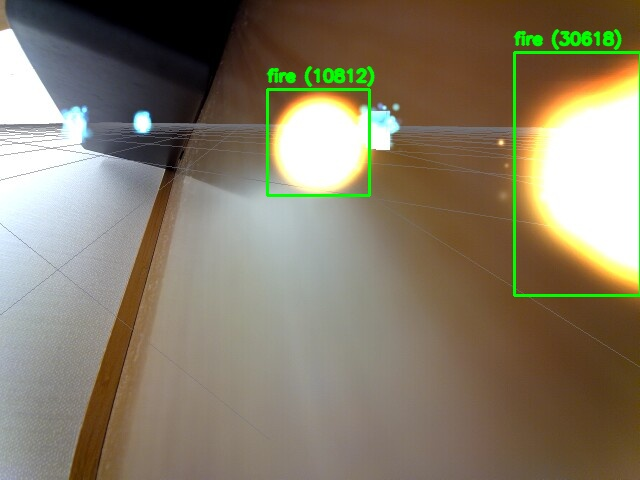fire: (514, 52, 640, 295), (267, 89, 369, 195)
